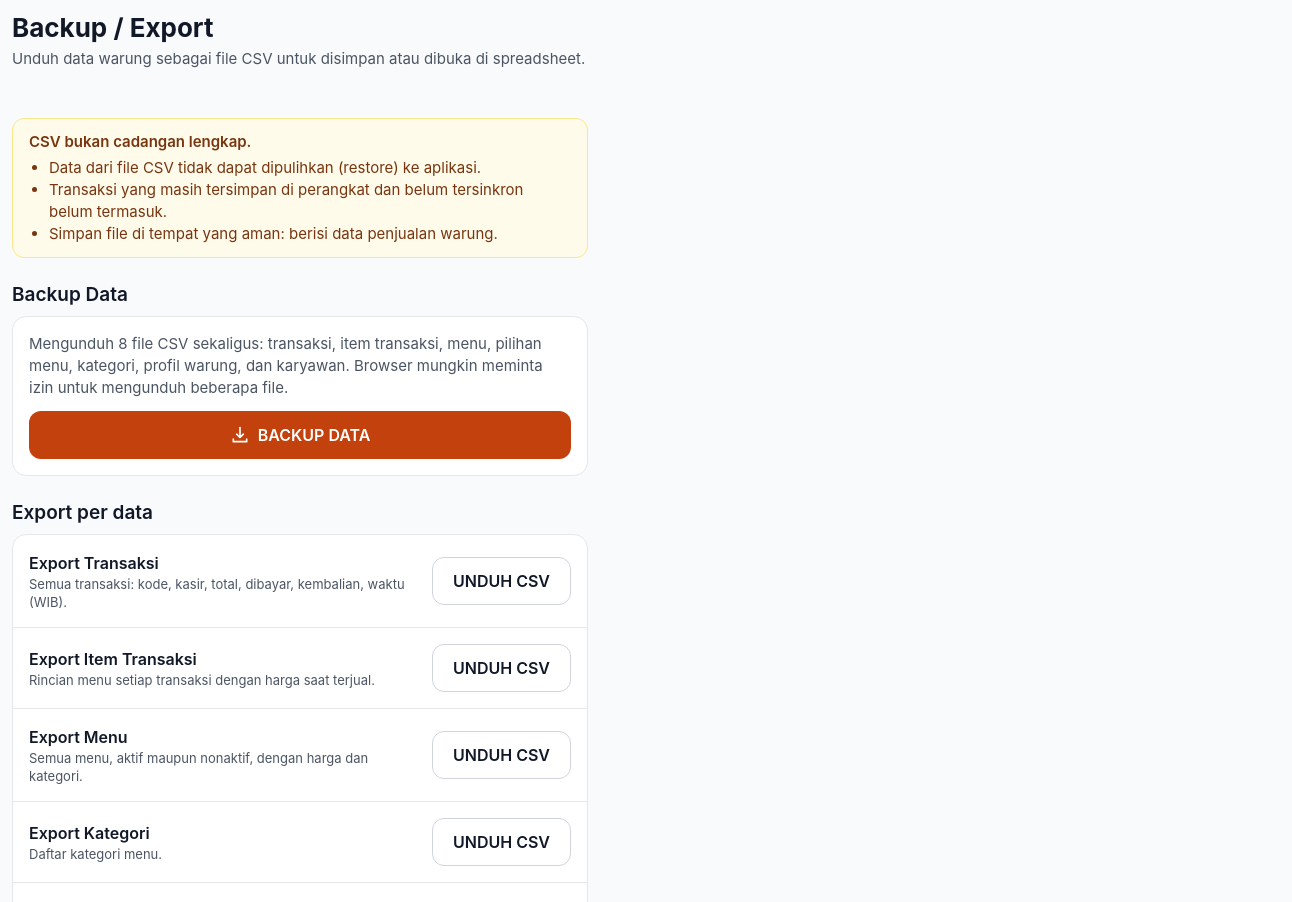
it: backup page › Backup Data downloads all eight files
This screenshot has width=1292, height=902.
Click the button "BACKUP DATA" at coordinates (300, 435), box [29, 411, 571, 459]
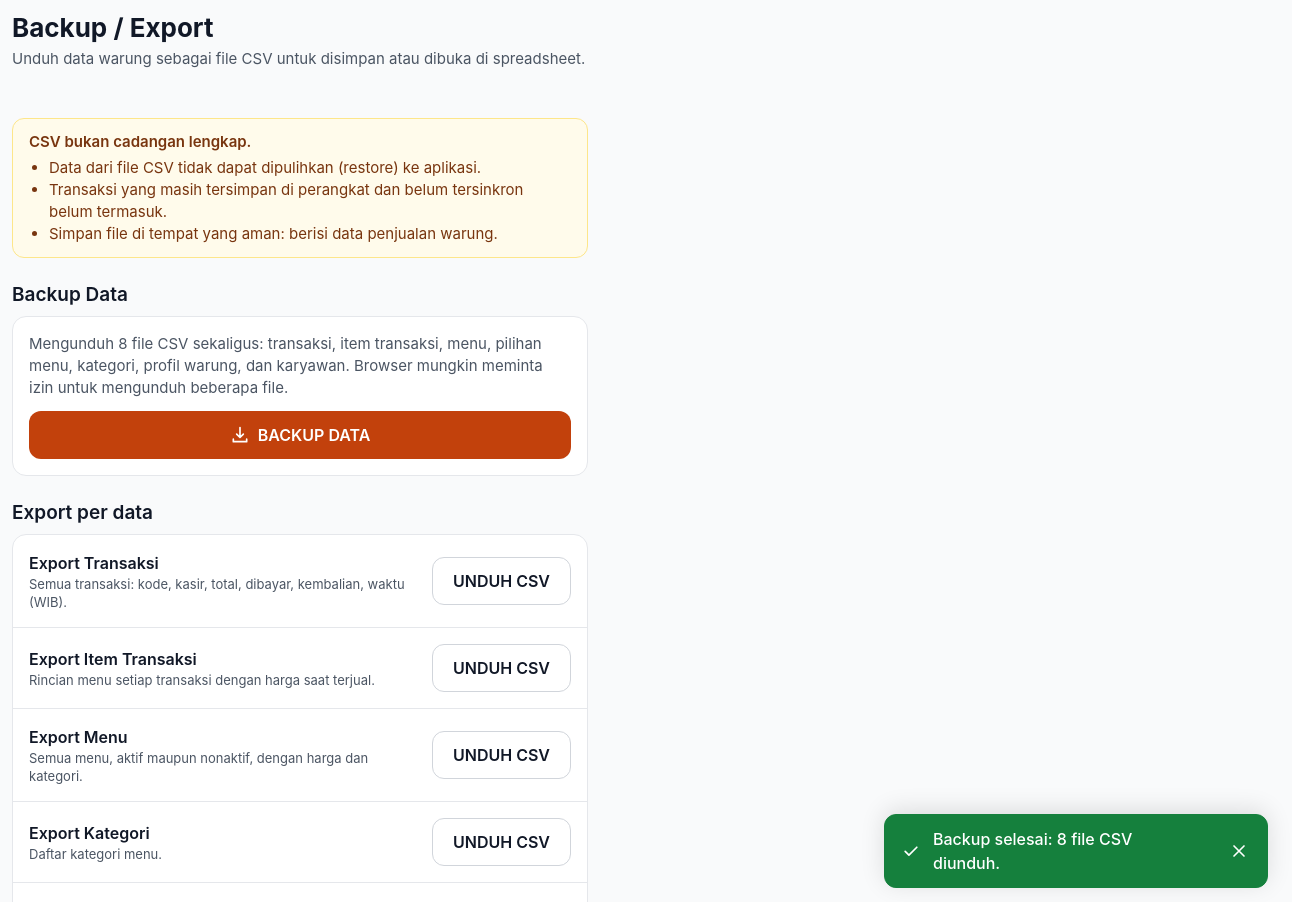
Now the text "Backup selesai: 8 file CSV diunduh." is shown, box [933, 829, 1132, 873]
